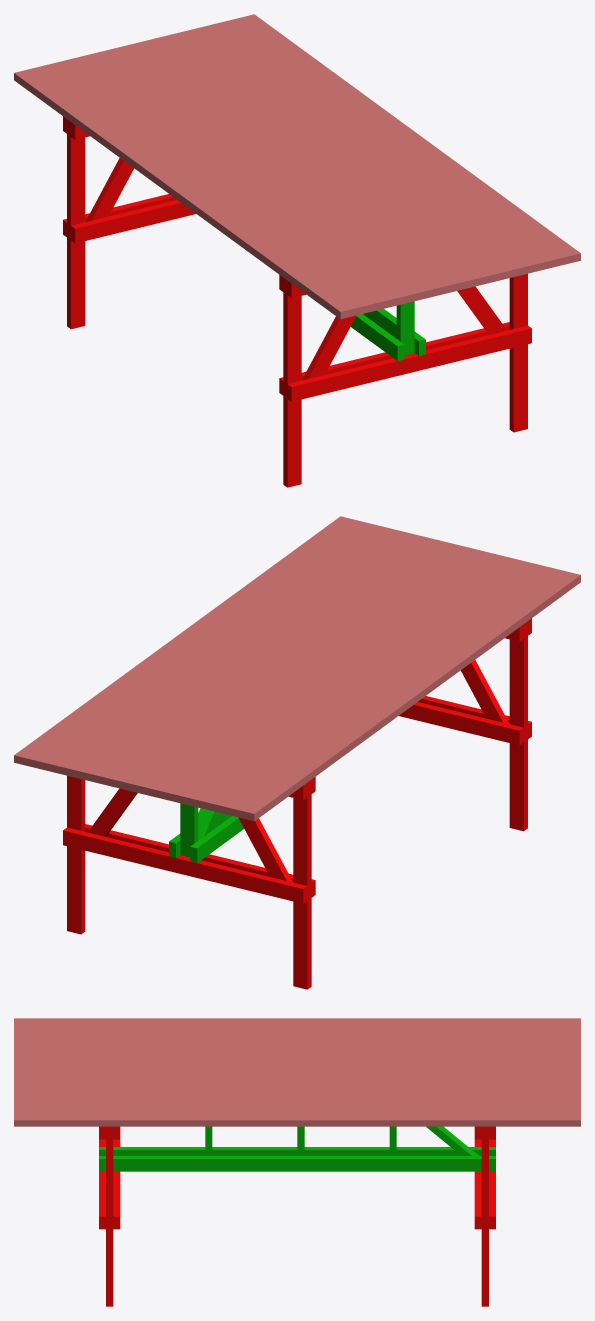
Rendered from result.glb.
3 views of the same model, one above another, from view 1: azimuth 30°, elevation 25°; view 2: azimuth 150°, elevation 25°; view 3: azimuth 270°, elevation 25° (orthographic). The views are drawn at different scales.
Parts seen in each view (by area): view 1: cf063de9-49f8-42e2-ba9c-6662f4c15860__Box, f262cad7-8b95-4f30-ac68-c0f5a419fede__undefined, d9b29446-daf2-4d6e-8936-9e67176ea2e8__undefined, 62f91d4a-7281-4822-99d3-ed826866eab1__undefined, d8265526-bfdf-4d91-b3e1-f1ccbe7d9a16__undefined, 37fea71c-07b4-40b7-9431-09840cac5de7__undefined, 80d76941-79f6-44c9-95d3-f94646acb382__undefined, a5db95e5-e7e1-4b3f-b881-9d64eadb4ff3__undefined, 05a6a779-3107-4dae-bacb-35bbee7a4389__undefined, 08414ed4-8845-4c0e-8ace-abeb7ee01f2a__undefined, fca61ad4-ba0d-4eeb-a856-c03ccc72f9dc__undefined, 381d7183-ce43-469a-8703-7afd95dac36c__undefined (+18 smaller); view 2: cf063de9-49f8-42e2-ba9c-6662f4c15860__Box, f262cad7-8b95-4f30-ac68-c0f5a419fede__undefined, d9b29446-daf2-4d6e-8936-9e67176ea2e8__undefined, 62f91d4a-7281-4822-99d3-ed826866eab1__undefined, d8265526-bfdf-4d91-b3e1-f1ccbe7d9a16__undefined, 37fea71c-07b4-40b7-9431-09840cac5de7__undefined, 80d76941-79f6-44c9-95d3-f94646acb382__undefined, a5db95e5-e7e1-4b3f-b881-9d64eadb4ff3__undefined, 05a6a779-3107-4dae-bacb-35bbee7a4389__undefined, 08414ed4-8845-4c0e-8ace-abeb7ee01f2a__undefined, fca61ad4-ba0d-4eeb-a856-c03ccc72f9dc__undefined, 381d7183-ce43-469a-8703-7afd95dac36c__undefined (+17 smaller); view 3: 2713cbb8-e5df-454b-ba01-39aa262eaf24__undefined, 04f76a1c-101e-496f-af39-0ec32723538b__strutH, cf063de9-49f8-42e2-ba9c-6662f4c15860__Box, 05a6a779-3107-4dae-bacb-35bbee7a4389__undefined, 41e7174a-2af3-4bf7-9b1c-81b3c1042d2c__undefined, 049a88d5-0930-4bd6-b21c-dcd643dddd67__undefined, 08414ed4-8845-4c0e-8ace-abeb7ee01f2a__undefined, 62f91d4a-7281-4822-99d3-ed826866eab1__undefined, fca61ad4-ba0d-4eeb-a856-c03ccc72f9dc__undefined, d8265526-bfdf-4d91-b3e1-f1ccbe7d9a16__undefined, d9b29446-daf2-4d6e-8936-9e67176ea2e8__undefined, 7787bca3-e398-428f-97fd-a9620a34cfd8__undefined (+14 smaller).
Part boxes in pixels (left/top/right/bottom): cf063de9-49f8-42e2-ba9c-6662f4c15860__Box: left=14, top=69, right=354, bottom=319; f262cad7-8b95-4f30-ac68-c0f5a419fede__undefined: left=226, top=18, right=566, bottom=267; d9b29446-daf2-4d6e-8936-9e67176ea2e8__undefined: left=127, top=42, right=467, bottom=291; 62f91d4a-7281-4822-99d3-ed826866eab1__undefined: left=85, top=52, right=425, bottom=301; d8265526-bfdf-4d91-b3e1-f1ccbe7d9a16__undefined: left=113, top=45, right=453, bottom=294; 37fea71c-07b4-40b7-9431-09840cac5de7__undefined: left=170, top=31, right=510, bottom=281; 80d76941-79f6-44c9-95d3-f94646acb382__undefined: left=198, top=24, right=538, bottom=274; a5db95e5-e7e1-4b3f-b881-9d64eadb4ff3__undefined: left=212, top=21, right=552, bottom=270; 05a6a779-3107-4dae-bacb-35bbee7a4389__undefined: left=28, top=66, right=368, bottom=315; 08414ed4-8845-4c0e-8ace-abeb7ee01f2a__undefined: left=71, top=55, right=411, bottom=305; fca61ad4-ba0d-4eeb-a856-c03ccc72f9dc__undefined: left=99, top=49, right=439, bottom=298; 381d7183-ce43-469a-8703-7afd95dac36c__undefined: left=184, top=28, right=524, bottom=277; cf063de9-49f8-42e2-ba9c-6662f4c15860__Box: left=240, top=571, right=580, bottom=821; f262cad7-8b95-4f30-ac68-c0f5a419fede__undefined: left=28, top=520, right=368, bottom=769; d9b29446-daf2-4d6e-8936-9e67176ea2e8__undefined: left=127, top=544, right=467, bottom=793; 62f91d4a-7281-4822-99d3-ed826866eab1__undefined: left=169, top=554, right=509, bottom=803; d8265526-bfdf-4d91-b3e1-f1ccbe7d9a16__undefined: left=141, top=547, right=481, bottom=796; 37fea71c-07b4-40b7-9431-09840cac5de7__undefined: left=84, top=533, right=424, bottom=783; 80d76941-79f6-44c9-95d3-f94646acb382__undefined: left=56, top=526, right=396, bottom=776; a5db95e5-e7e1-4b3f-b881-9d64eadb4ff3__undefined: left=42, top=523, right=382, bottom=772; 05a6a779-3107-4dae-bacb-35bbee7a4389__undefined: left=226, top=568, right=566, bottom=817; 08414ed4-8845-4c0e-8ace-abeb7ee01f2a__undefined: left=183, top=557, right=523, bottom=807; fca61ad4-ba0d-4eeb-a856-c03ccc72f9dc__undefined: left=155, top=551, right=495, bottom=800; 381d7183-ce43-469a-8703-7afd95dac36c__undefined: left=70, top=530, right=410, bottom=779; 2713cbb8-e5df-454b-ba01-39aa262eaf24__undefined: left=14, top=1114, right=580, bottom=1126; 04f76a1c-101e-496f-af39-0ec32723538b__strutH: left=99, top=1156, right=495, bottom=1171; cf063de9-49f8-42e2-ba9c-6662f4c15860__Box: left=14, top=1018, right=580, bottom=1024; 05a6a779-3107-4dae-bacb-35bbee7a4389__undefined: left=14, top=1024, right=580, bottom=1030; 41e7174a-2af3-4bf7-9b1c-81b3c1042d2c__undefined: left=14, top=1030, right=580, bottom=1036; 049a88d5-0930-4bd6-b21c-dcd643dddd67__undefined: left=14, top=1036, right=580, bottom=1042; 08414ed4-8845-4c0e-8ace-abeb7ee01f2a__undefined: left=14, top=1042, right=580, bottom=1048; 62f91d4a-7281-4822-99d3-ed826866eab1__undefined: left=14, top=1048, right=580, bottom=1054; fca61ad4-ba0d-4eeb-a856-c03ccc72f9dc__undefined: left=14, top=1054, right=580, bottom=1060; d8265526-bfdf-4d91-b3e1-f1ccbe7d9a16__undefined: left=14, top=1060, right=580, bottom=1066; d9b29446-daf2-4d6e-8936-9e67176ea2e8__undefined: left=14, top=1066, right=580, bottom=1072; 7787bca3-e398-428f-97fd-a9620a34cfd8__undefined: left=14, top=1072, right=580, bottom=1078.
Size of the model in its own units: 850 by 725 by 2000.
